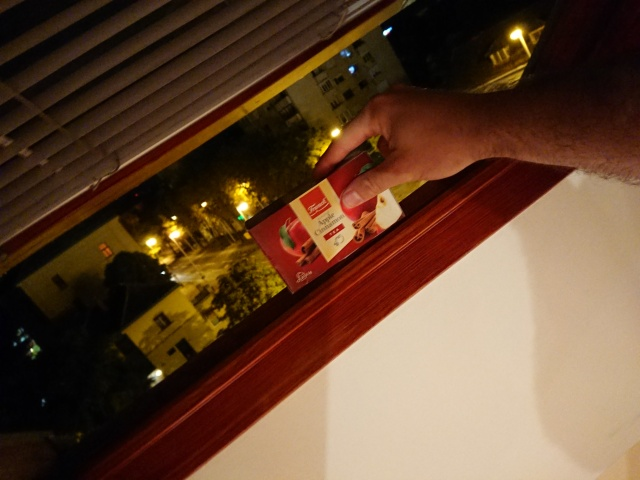Franck Apple Cinnamon Tea 60g: (242, 146, 409, 297)
